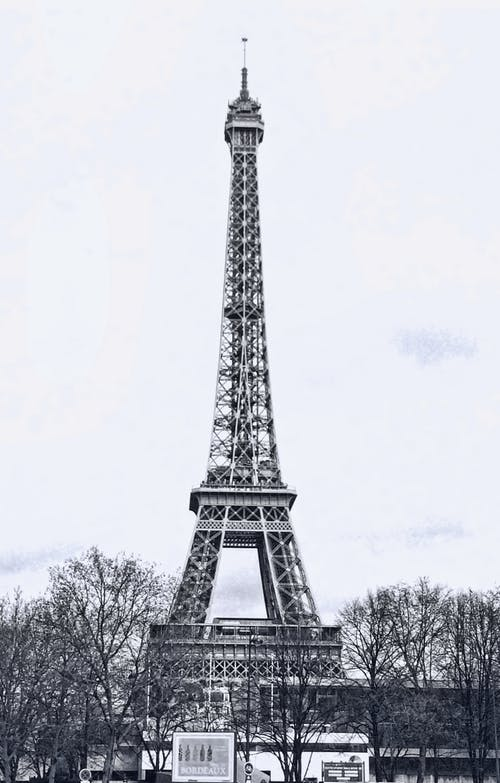eiffel tower: (99, 22, 357, 701)
